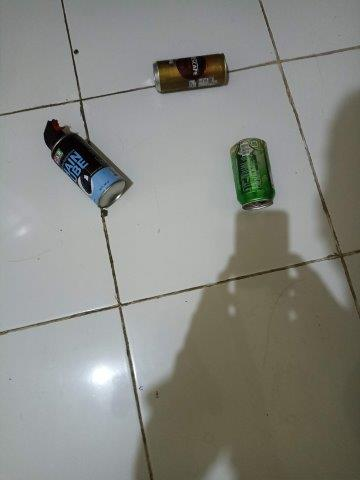kaleng: (51, 133, 125, 208), (230, 137, 275, 210), (154, 53, 228, 93)
